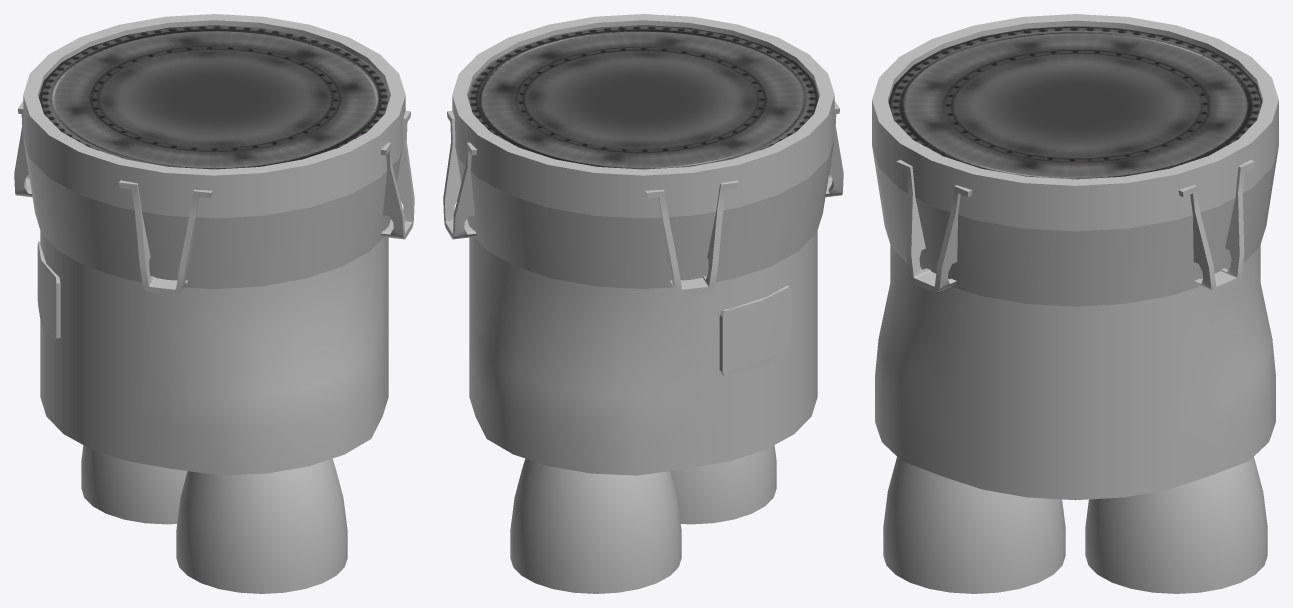
Rendered from bluedog_AtlasV_RD180.dae.
3 views of the same model, side by side, from view 1: azimuth 30°, elevation 25°; view 2: azimuth 150°, elevation 25°; view 3: azimuth 270°, elevation 25° (orthographic). The views are drawn at different scales.
Visible parts, largest first — view 1: AtlasV_Engine_Base1, pCylinder1, thrustTransform_ncl1_1, thrustTransform; view 2: AtlasV_Engine_Base1, pCylinder1, thrustTransform, thrustTransform_ncl1_1; view 3: AtlasV_Engine_Base1, pCylinder1, thrustTransform, thrustTransform_ncl1_1.
Boxes of the visible parts, x1,y1,x2,y2 form: AtlasV_Engine_Base1: [14, 14, 414, 475]; pCylinder1: [38, 25, 390, 169]; thrustTransform_ncl1_1: [176, 458, 347, 593]; thrustTransform: [81, 445, 187, 524]; AtlasV_Engine_Base1: [443, 14, 843, 475]; pCylinder1: [467, 25, 819, 169]; thrustTransform: [510, 458, 681, 593]; thrustTransform_ncl1_1: [670, 445, 776, 524]; AtlasV_Engine_Base1: [872, 14, 1278, 500]; pCylinder1: [888, 26, 1262, 179]; thrustTransform: [1085, 457, 1267, 593]; thrustTransform_ncl1_1: [883, 457, 1065, 593].
Size of the model in its own units: 2.5 by 3.09 by 2.5.
